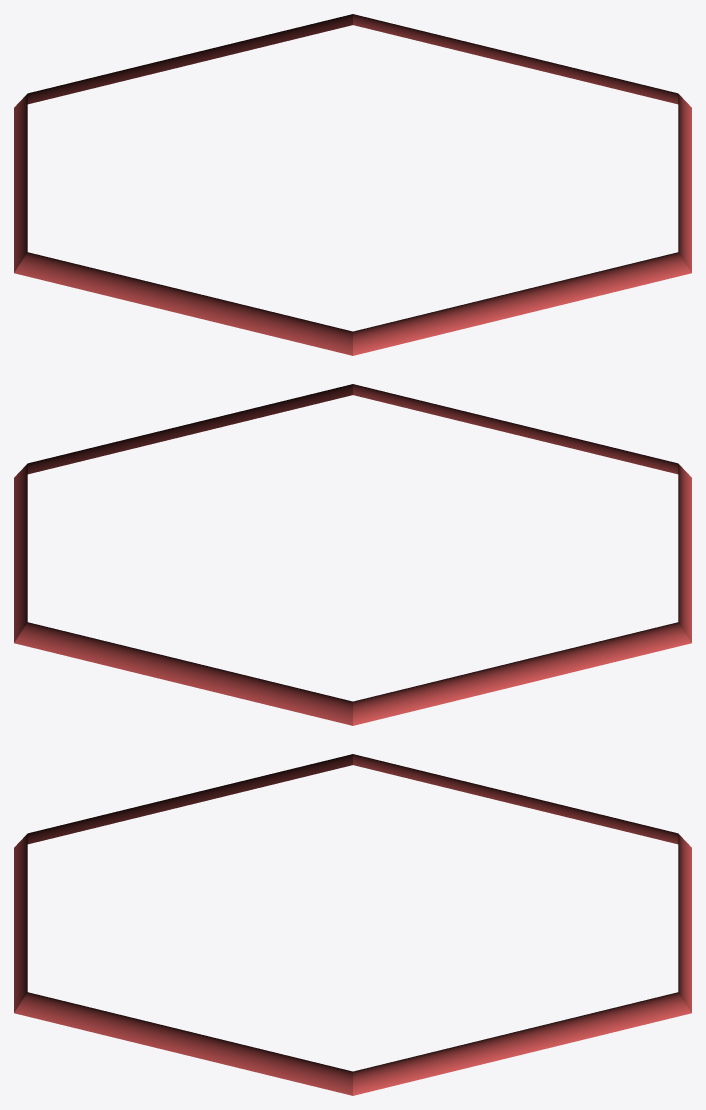
The model's file is Ranura.fbx.
3 views of the same model, one above another, from view 1: azimuth 30°, elevation 25°; view 2: azimuth 150°, elevation 25°; view 3: azimuth 270°, elevation 25° (orthographic).
Parts seen in each view (by area): view 1: Ranura; view 2: Ranura; view 3: Ranura.
Boxes of the visible parts, box(x1,y1,x2,y2) form: Ranura: box(14, 14, 691, 355); Ranura: box(14, 384, 691, 725); Ranura: box(14, 754, 691, 1095).
Size of the model in its own units: 200 by 5 by 173.
